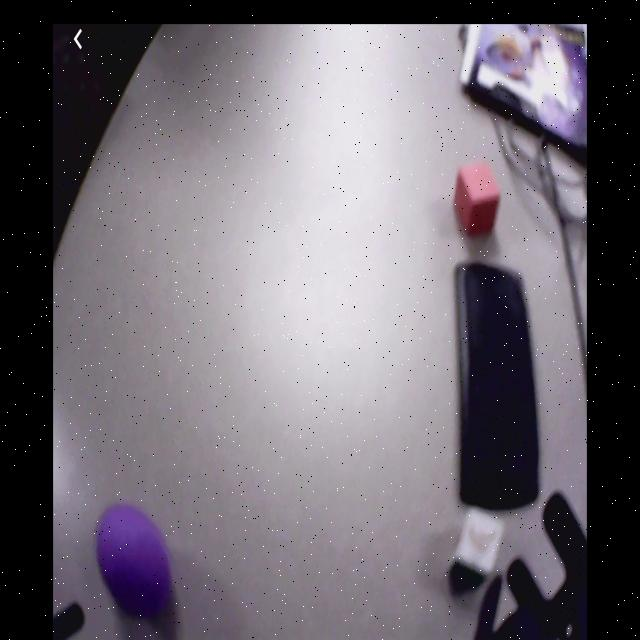ball: (96, 504, 174, 617)
